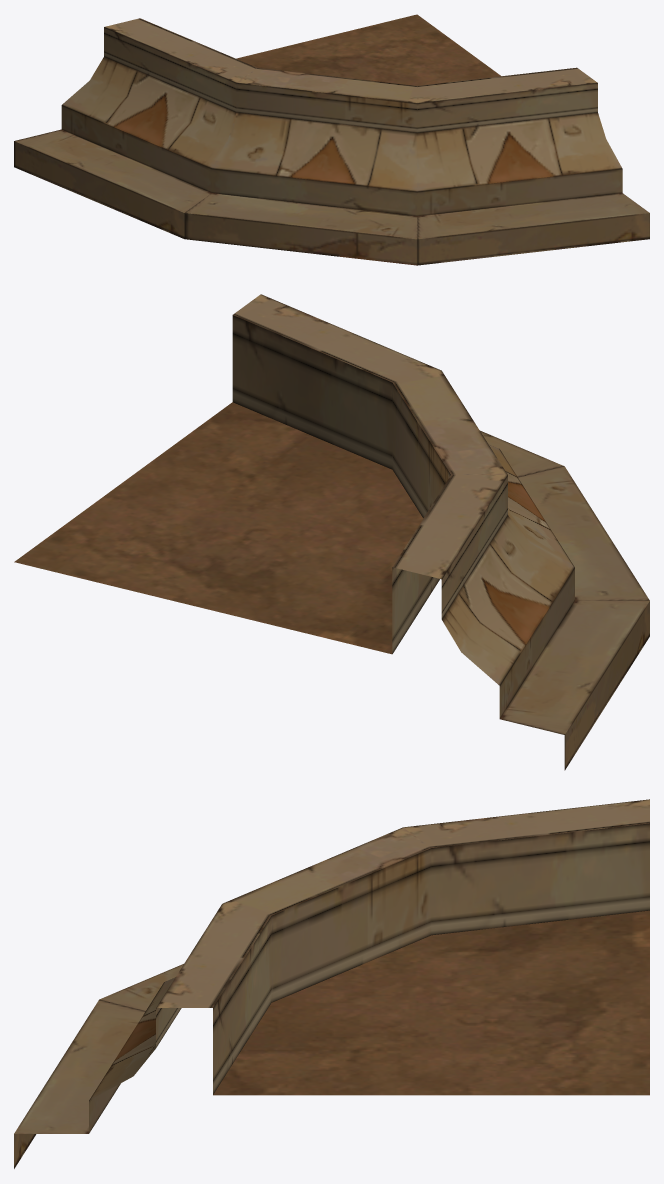
Rendered from 2_SM_HuaTan_01.FBX.
3 renders of one model, top to bottom at view 1: azimuth 30°, elevation 25°; view 2: azimuth 150°, elevation 25°; view 3: azimuth 270°, elevation 25°, orthographic. The views are drawn at different scales.
Parts seen in each view (by area): view 1: 2_SM_HuaTan_01; view 2: 2_SM_HuaTan_01; view 3: 2_SM_HuaTan_01.
Part boxes in pixels (x1=…): 2_SM_HuaTan_01: x1=14, y1=14, x2=649, y2=265; 2_SM_HuaTan_01: x1=14, y1=294, x2=649, y2=770; 2_SM_HuaTan_01: x1=14, y1=799, x2=649, y2=1168.
Bounding box in the file's own units: 649 × 182 × 649.
1 material, 1 textured.
